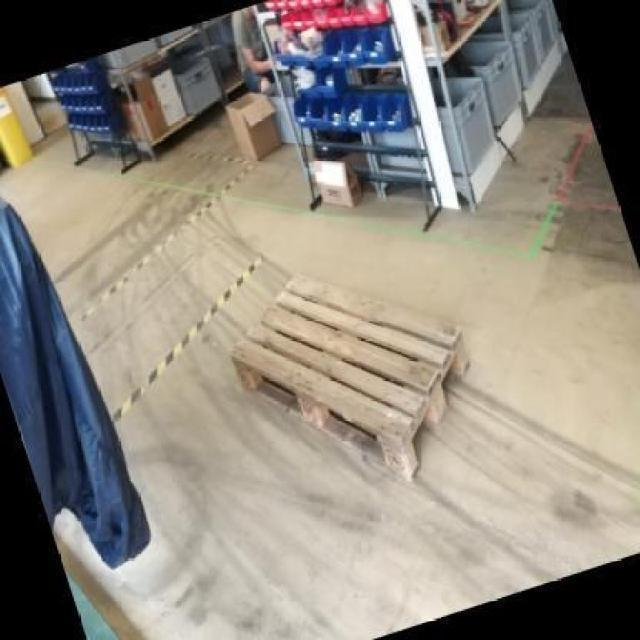box: (124, 65, 190, 141), (225, 92, 282, 162), (309, 155, 363, 208), (151, 68, 188, 127), (98, 40, 159, 69), (119, 102, 154, 144)
